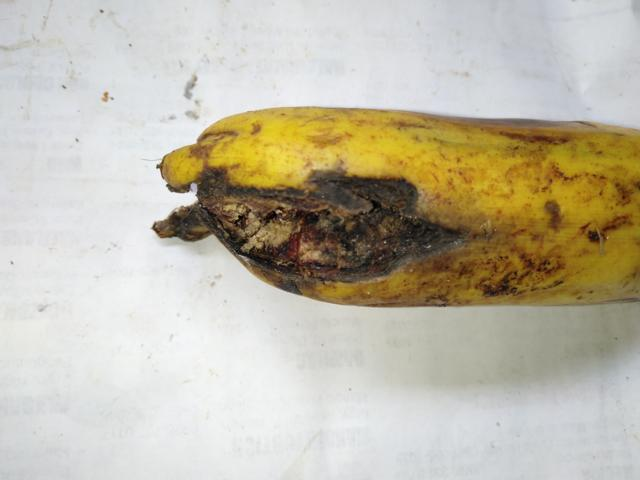ripe: (170, 79, 639, 338)
rotten: (125, 134, 463, 303)
